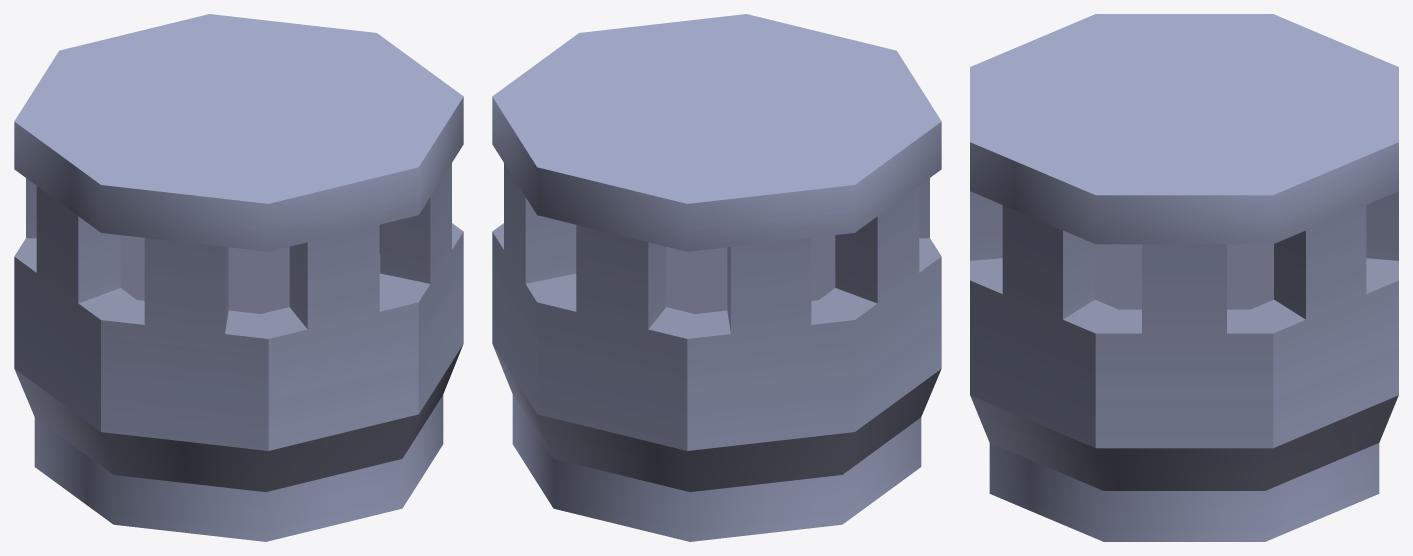
The model's file is tower-watch.glb.
3 views of the same model, side by side, from view 1: azimuth 30°, elevation 25°; view 2: azimuth 150°, elevation 25°; view 3: azimuth 270°, elevation 25° (orthographic). The views are drawn at different scales.
Visible parts, largest first — view 1: tower-watch; view 2: tower-watch; view 3: tower-watch.
Part boxes in pixels (x1,y1,x2,y2): tower-watch: [14, 14, 463, 541]; tower-watch: [492, 14, 941, 541]; tower-watch: [970, 14, 1398, 541].
Bounding box in the file's own units: 3.05 × 2.78 × 3.05.
Materials: 1 (1 with a texture image).
